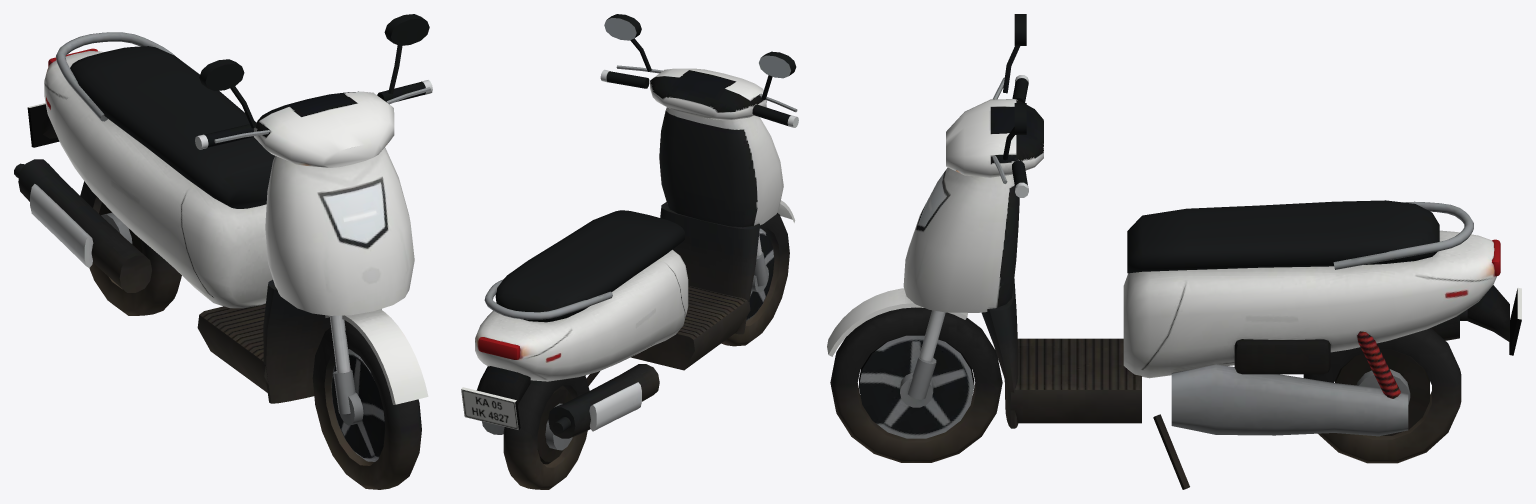
The model's file is bike.glb.
The picture shows the model from 3 angles, left to right: view 1: azimuth 30°, elevation 25°; view 2: azimuth 150°, elevation 25°; view 3: azimuth 270°, elevation 25°; orthographic projection. The views are drawn at different scales.
Visible parts, largest first — view 1: bike; view 2: bike; view 3: bike.
Boxes of the visible parts, x1,y1,x2,y2 form: bike: [14, 14, 432, 489]; bike: [461, 14, 798, 489]; bike: [827, 14, 1521, 489].
Bounding box in the file's own units: 0.71 × 1.19 × 1.88.
Materials: 1 (1 with a texture image).
